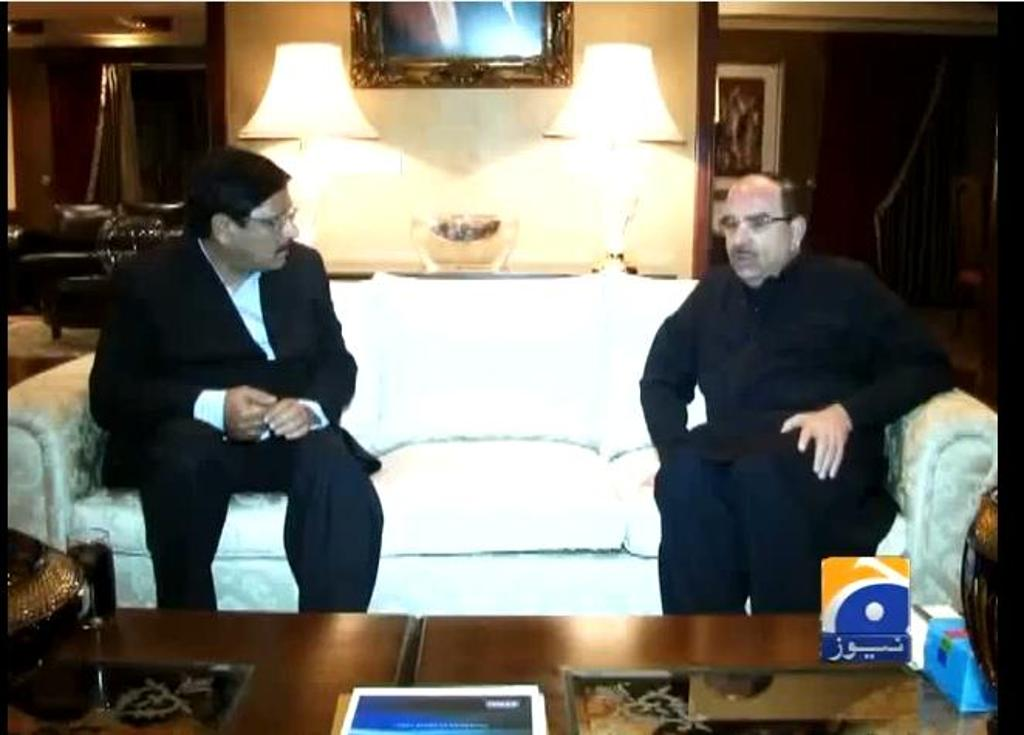face: (228, 168, 298, 278), (726, 176, 786, 284)
